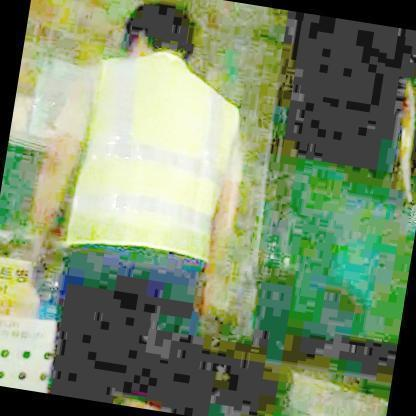no-helmet: (124, 0, 196, 58)
vest: (67, 43, 247, 268)
